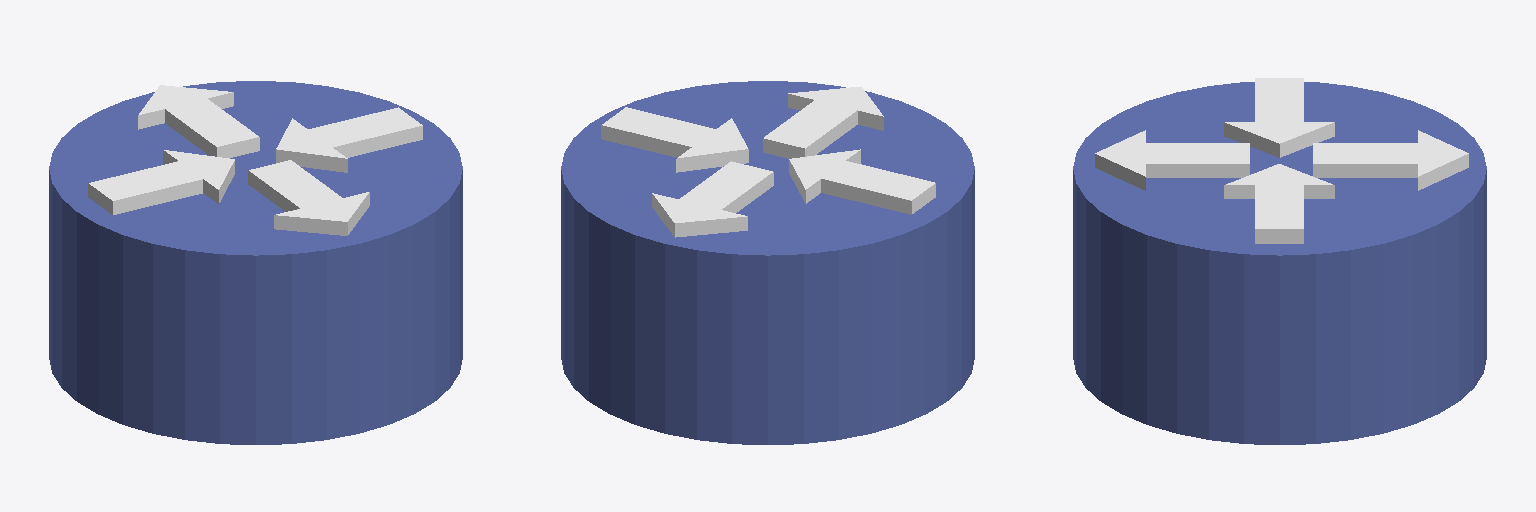
The model's file is d-luyouqi1.obj.
The picture shows the model from 3 angles: view 1: azimuth 30°, elevation 25°; view 2: azimuth 150°, elevation 25°; view 3: azimuth 270°, elevation 25°; orthographic projection.
Visible parts, largest first — view 1: d-luyouqi1; view 2: d-luyouqi1; view 3: d-luyouqi1.
Boxes of the visible parts, box(x1,y1,x2,y2) form: d-luyouqi1: box(49, 81, 462, 444); d-luyouqi1: box(561, 81, 974, 444); d-luyouqi1: box(1073, 78, 1486, 444).
Size of the model in its own units: 49.8 by 27.1 by 49.8.